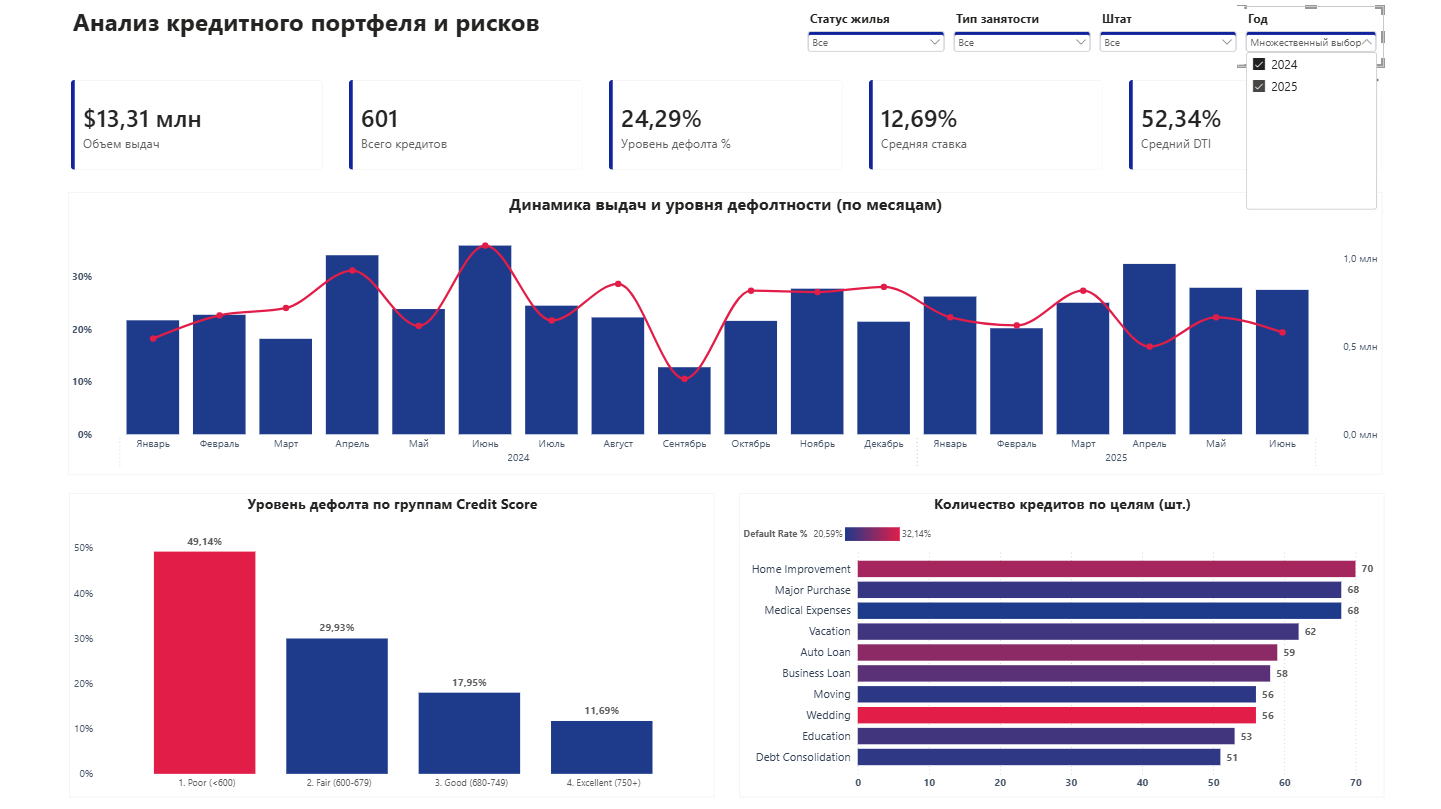

The page's visual inventory and layout, read from the dashboard file:
{"tool":"powerbi","page":{"name":"Part 1","canvas":[1920,1080],"ordinal":0},"visuals":[{"type":"shape","box":[80,640,1760,432],"z":0},{"type":"shape","box":[78.8,247.5,1758.3,397.5],"z":1000},{"type":"cardVisual","fields":{"Data":["fact_loans.Total Volume"]},"box":[81.5,95.9,365.3,152.4],"z":2000},{"type":"cardVisual","fields":{"Data":["fact_loans.Total Loans"]},"box":[446.8,95.5,341.4,152.9],"z":3000},{"type":"cardVisual","fields":{"Data":["fact_loans.Default Rate %"]},"box":[788.4,95.5,341.4,152.9],"z":4000},{"type":"cardVisual","fields":{"Data":["Avg(fact_loans.avg_interest_rate)"]},"box":[1130,95.5,341.4,152.9],"z":5000},{"type":"cardVisual","fields":{"Data":["Avg(fact_loans.avg_dti_ratio)"]},"box":[1471.5,95.9,366.6,152.4],"z":6000},{"type":"lineClusteredColumnComboChart","title":"Динамика выдач и уровня дефолтности (по месяцам)","fields":{"Category":["fact_loans.application_date.Изменение.Иерархия дат.Год","fact_loans.application_date.Изменение.Иерархия дат.Месяц"],"Y":["fact_loans.Total Volume"],"Y2":["fact_loans.Default Rate %"]},"box":[94.7,260,1726.5,372.3],"z":7000},{"type":"columnChart","title":"Уровень дефолта по группам Credit Score","fields":{"Category":["dim_borrowers.Credit Score Group"],"Y":["fact_loans.Default Rate %"]},"box":[96,656,848,400],"z":8000},{"type":"barChart","title":"Количество кредитов по целям (шт.)","fields":{"Category":["fact_loans.loan_purpose"],"Y":["fact_loans.Total Loans"]},"box":[976,656,848,400],"z":9000},{"type":"slicer","fields":{"Values":["fact_loans.application_date.Изменение.Иерархия дат.Год"]},"box":[1632,16,192,80],"z":10000},{"type":"slicer","fields":{"Values":["dim_borrowers.state"]},"box":[1440,16,200,77.1],"z":11000},{"type":"slicer","fields":{"Values":["dim_borrowers.employment_status"]},"box":[1248,16,200,77.1],"z":12000},{"type":"slicer","fields":{"Values":["dim_borrowers.home_ownership"]},"box":[1056,16,200,77.1],"z":13000},{"type":"textbox","box":[95.7,8.6,641.4,58.6],"z":14000}]}

Visuals, with their boxes in screenshot pixels (x1, y1, x2, y2), scaled from the page's 1920x1080 canvas onto the 1441x809 screenshot:
shape: (60,479,1381,803)
shape: (59,185,1379,483)
cardVisual - fact_loans.Total Volume: (61,72,335,186)
cardVisual - fact_loans.Total Loans: (335,72,592,186)
cardVisual - fact_loans.Default Rate %: (592,72,848,186)
cardVisual - Avg(fact_loans.avg_interest_rate): (848,72,1104,186)
cardVisual - Avg(fact_loans.avg_dti_ratio): (1104,72,1380,186)
"Динамика выдач и уровня дефолтности (по месяцам)" lineClusteredColumnComboChart: (71,195,1367,474)
"Уровень дефолта по группам Credit Score" columnChart: (72,491,708,791)
"Количество кредитов по целям (шт.)" barChart: (733,491,1369,791)
slicer - fact_loans.application_date.Изменение.Иерархия дат.Год: (1225,12,1369,72)
slicer - dim_borrowers.state: (1081,12,1231,70)
slicer - dim_borrowers.employment_status: (937,12,1087,70)
slicer - dim_borrowers.home_ownership: (793,12,943,70)
textbox: (72,6,553,50)
